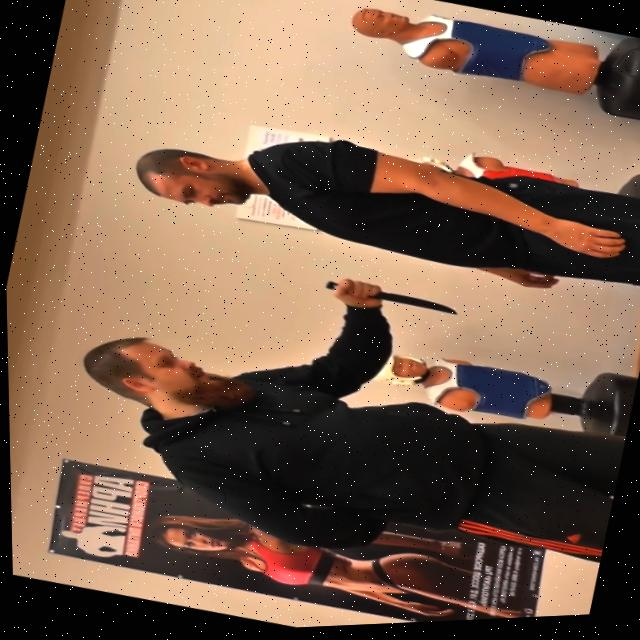knife: (374, 290, 458, 321)
